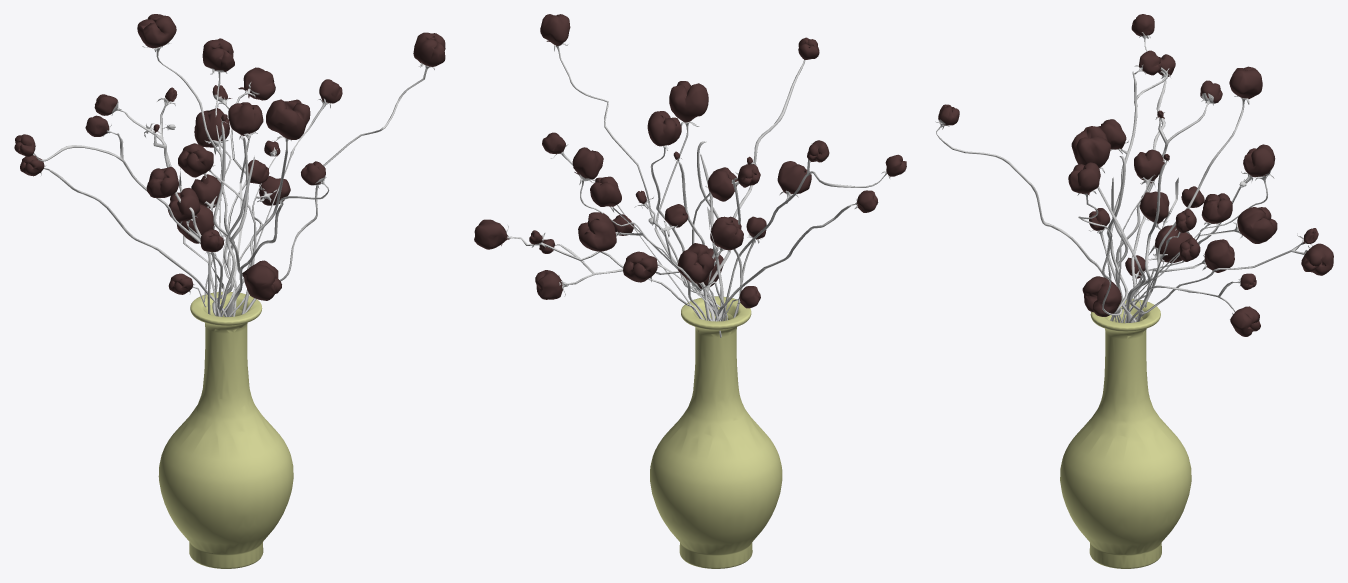
Rendered from PLANT.fbx.
3 renders of one model, left to right at view 1: azimuth 30°, elevation 25°; view 2: azimuth 150°, elevation 25°; view 3: azimuth 270°, elevation 25°, orthographic. The views are drawn at different scales.
Parts seen in each view (by area): view 1: flower-6203 flower-6203 [942377]; view 2: flower-6203 flower-6203 [942377]; view 3: flower-6203 flower-6203 [942377].
Boxes of the visible parts, bbox=[...] form: flower-6203 flower-6203 [942377]: bbox=[14, 14, 445, 568]; flower-6203 flower-6203 [942377]: bbox=[474, 14, 906, 568]; flower-6203 flower-6203 [942377]: bbox=[935, 14, 1333, 568].
Size of the model in its own units: 38.37 by 45.43 by 34.02.
